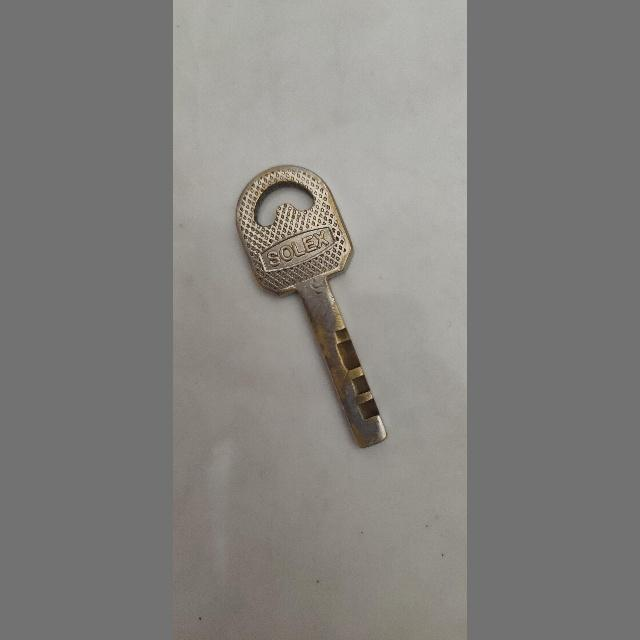Keys: (230, 156, 402, 460)
